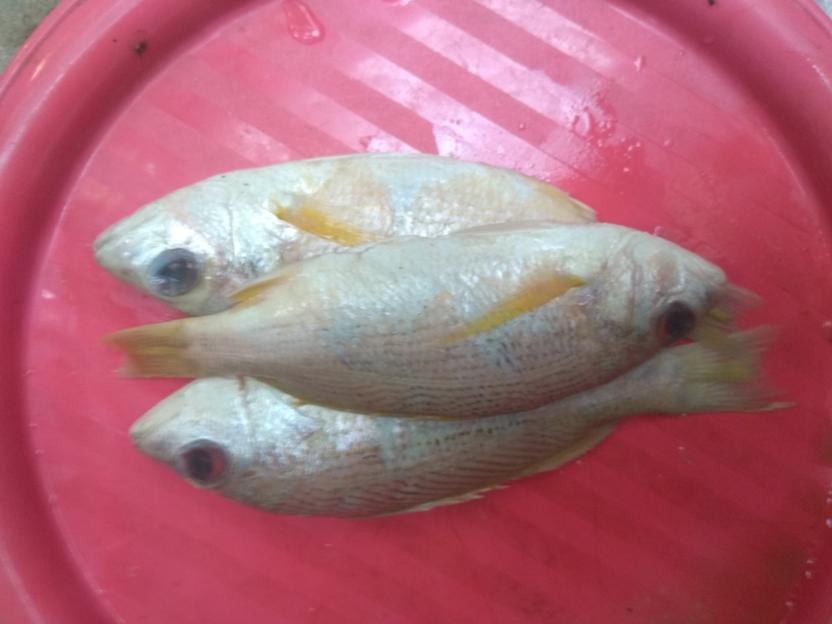Fish head: (92, 167, 264, 313), (128, 377, 304, 513), (589, 229, 730, 367)
Fish tail: (679, 324, 800, 415), (89, 314, 200, 385)
